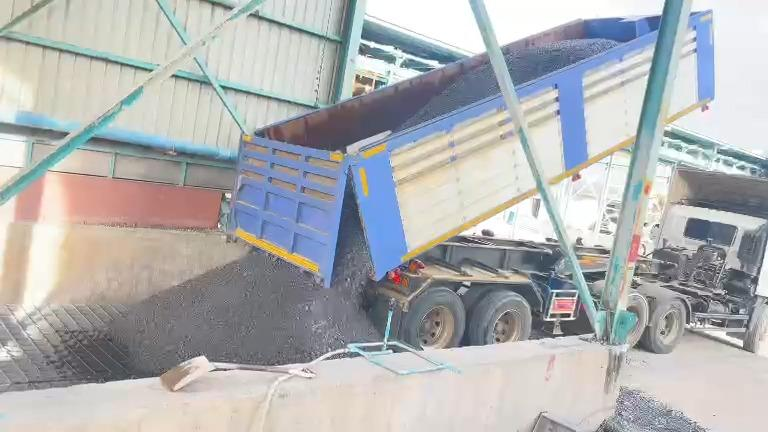gravel: (112, 198, 378, 373), (398, 63, 498, 129), (504, 39, 618, 84), (599, 387, 706, 431), (347, 188, 350, 193)
